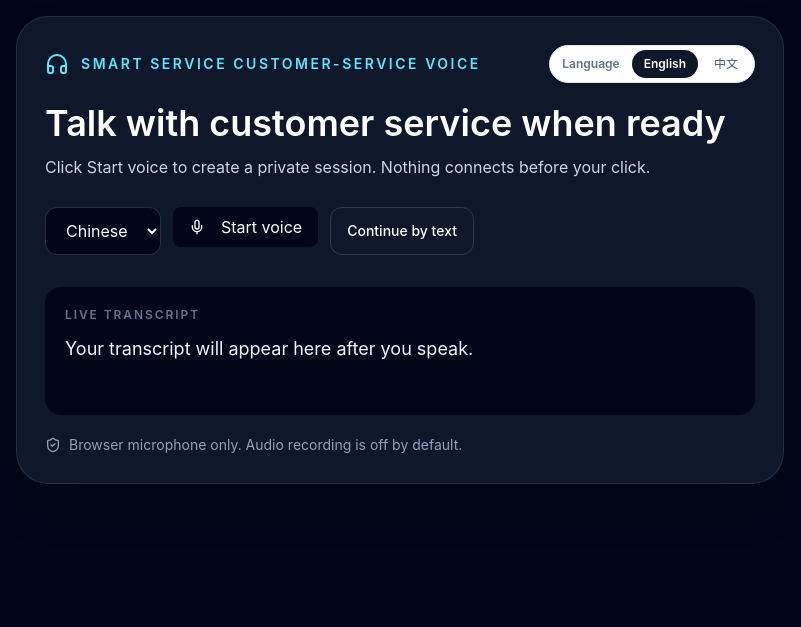
VoiceExperience › shows the approved answer citation on screen without adding it to transcript text
Step 1. Click the button "Start voice" → (246, 227), box [173,207,318,247]
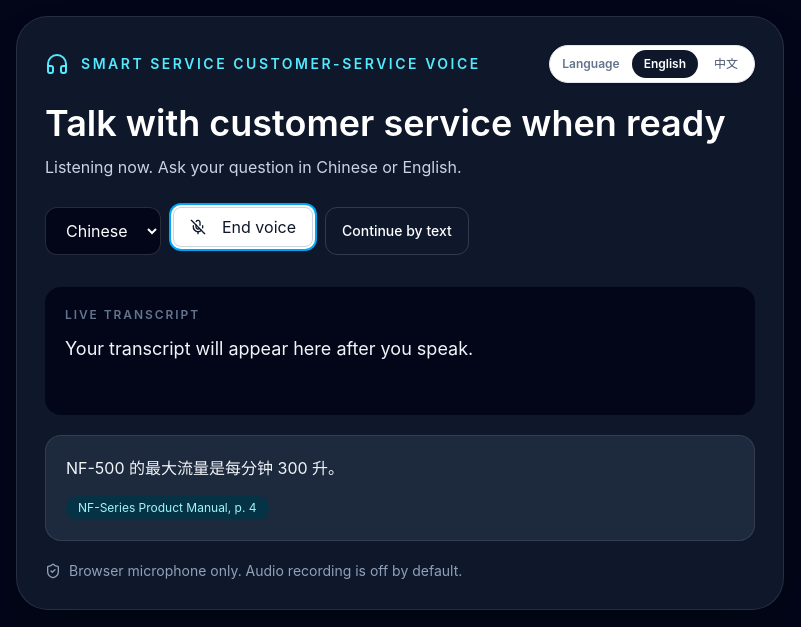
Expected: the text "Your transcript will appear here after you speak." is shown, [65,338,473,359]
Expected: the text "NF-500 的最大流量是每分钟 300 升。" is shown, [66,458,344,478]
Expected: the text "NF-Series Product Manual, p. 4" is shown, [66,496,268,520]
